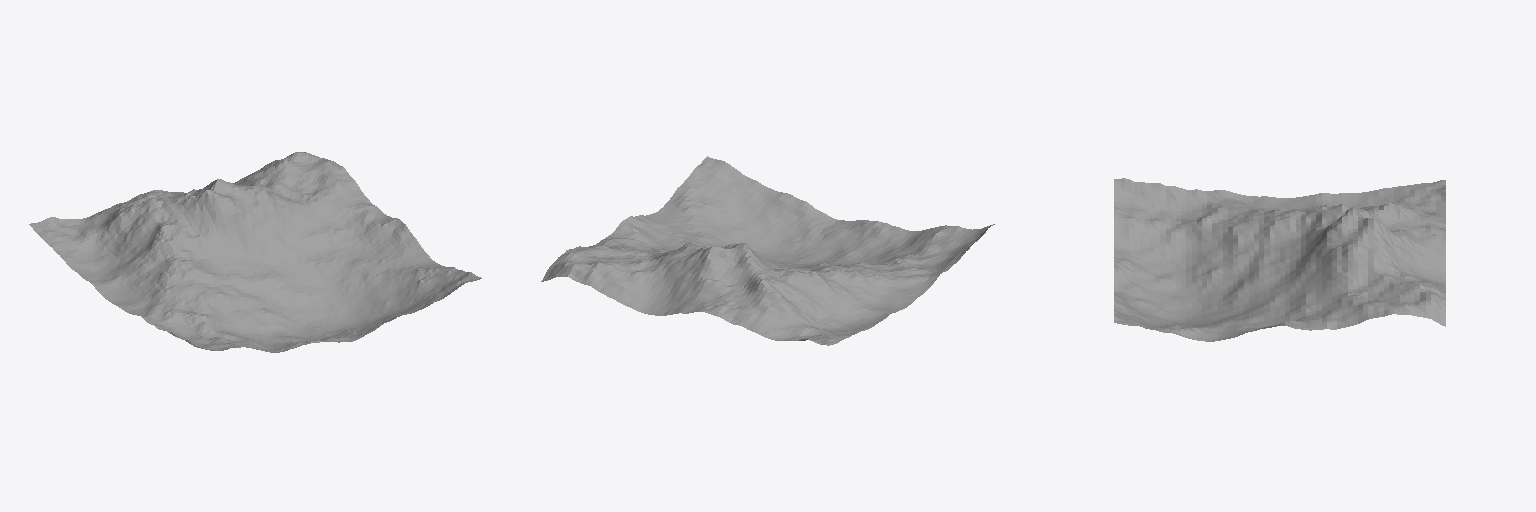
The model's file is terrain.obj.
3 renders of one model, left to right at view 1: azimuth 30°, elevation 25°; view 2: azimuth 150°, elevation 25°; view 3: azimuth 270°, elevation 25°, orthographic.
Visible parts, largest first — view 1: terrain.001_terrain-geom; view 2: terrain.001_terrain-geom; view 3: terrain.001_terrain-geom.
Part boxes in pixels (bbox=[...]): terrain.001_terrain-geom: bbox=[29, 152, 481, 352]; terrain.001_terrain-geom: bbox=[541, 156, 994, 345]; terrain.001_terrain-geom: bbox=[1114, 178, 1445, 341].
Bounding box in the file's own units: 91.44 × 25.85 × 91.44.